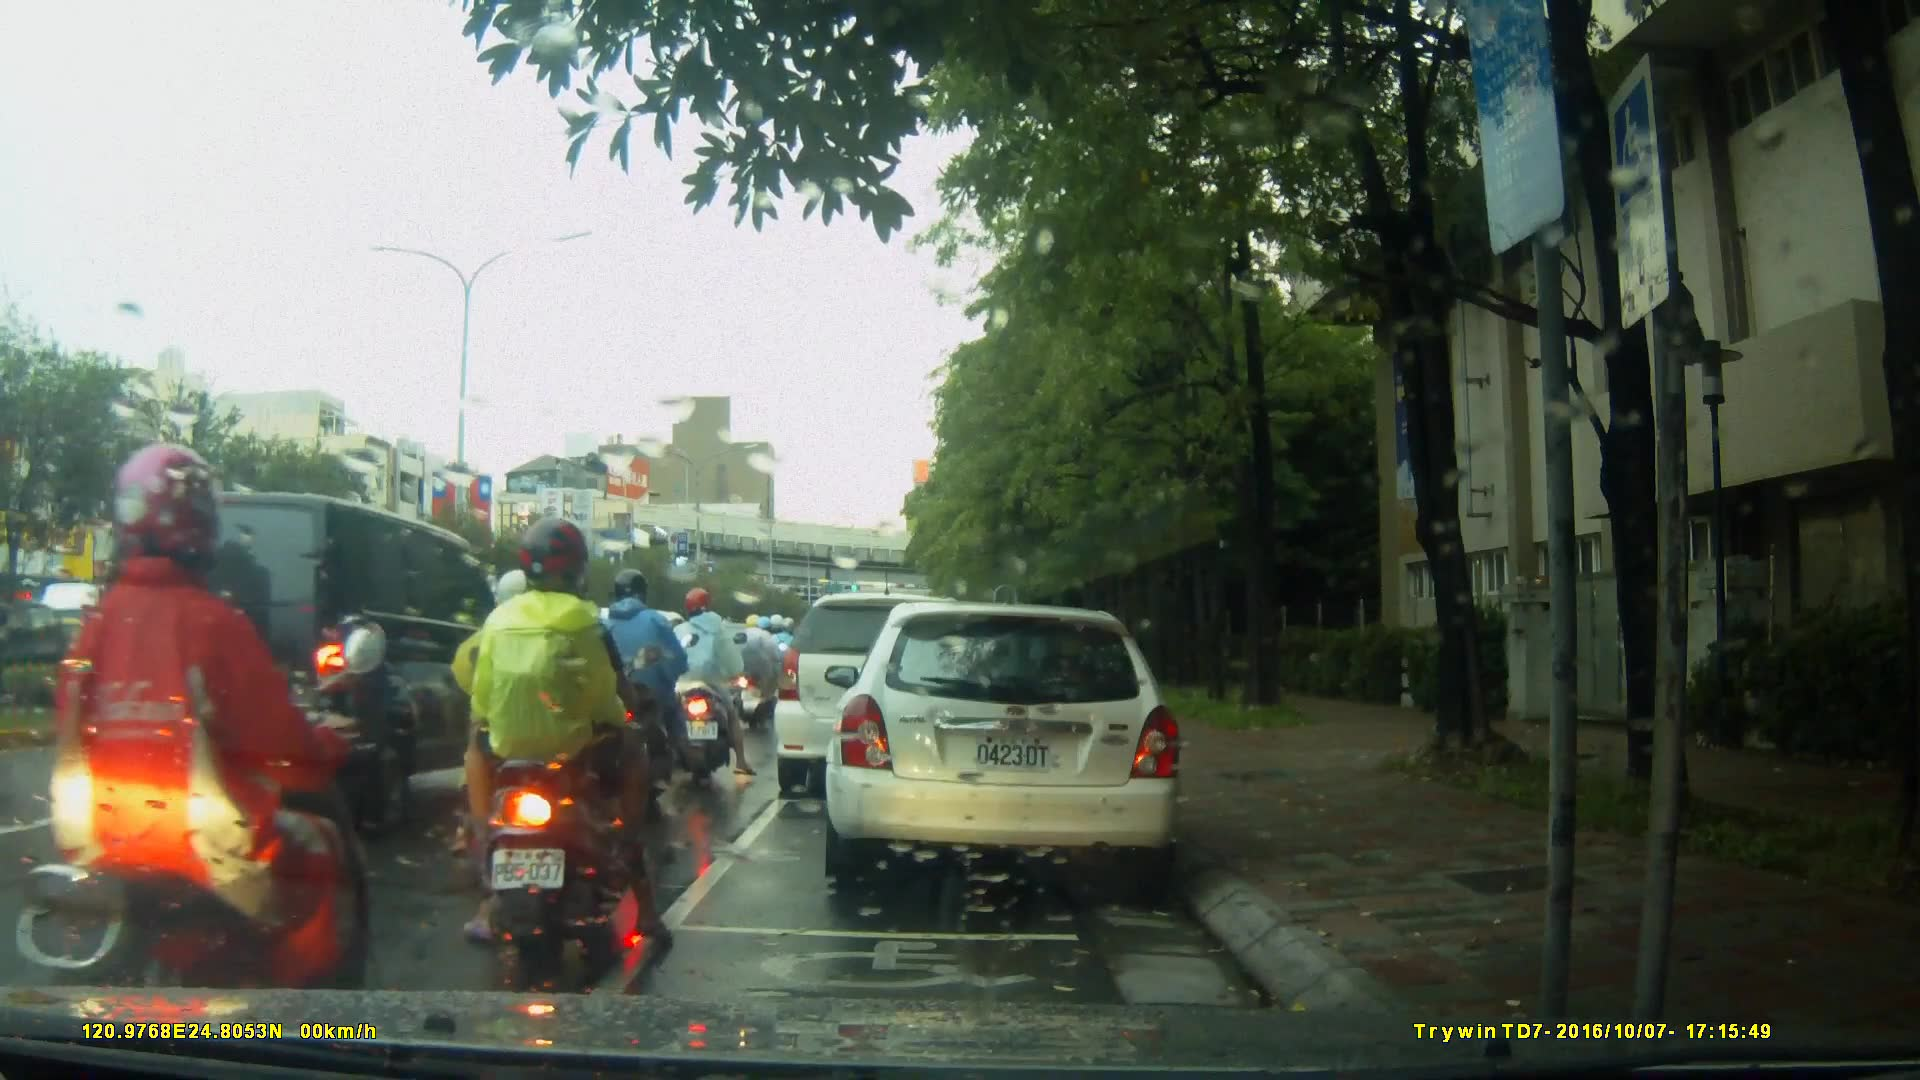rider: (25, 436, 374, 1066), (461, 519, 683, 957), (465, 573, 604, 890), (581, 569, 696, 822), (664, 588, 747, 784), (734, 612, 783, 734)
vehicle: (86, 486, 511, 838), (822, 604, 1188, 883), (774, 595, 995, 802), (469, 601, 704, 770), (20, 576, 199, 697)
